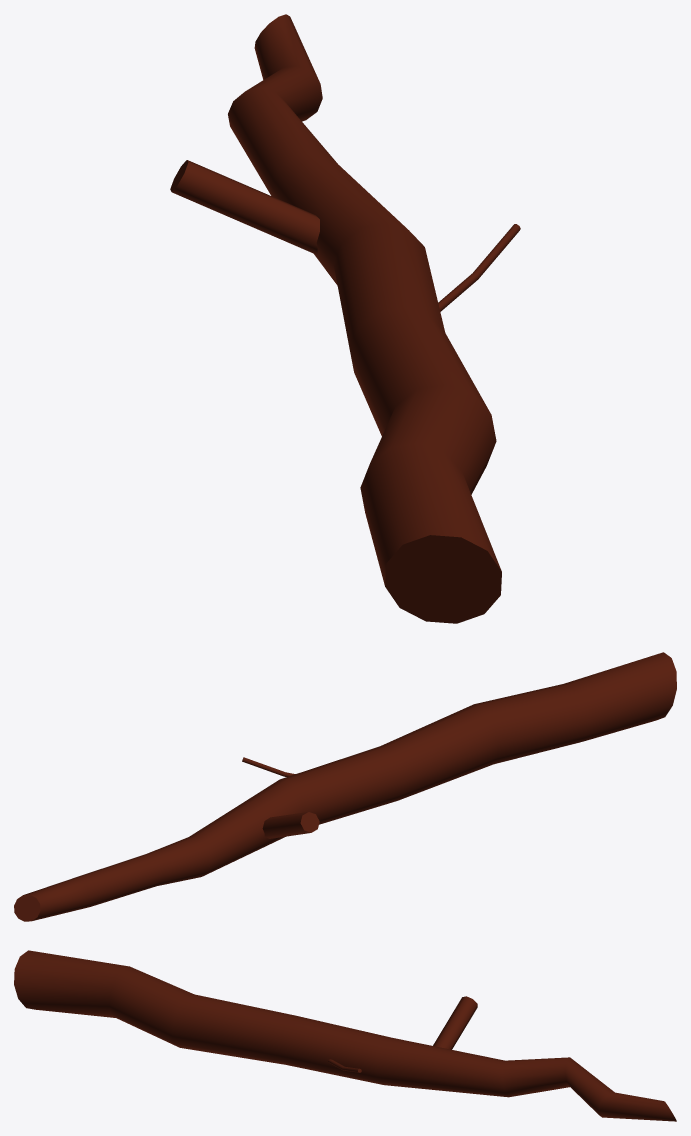
File: branch_04.fbx
3 views of the same model, one above another, from view 1: azimuth 30°, elevation 25°; view 2: azimuth 150°, elevation 25°; view 3: azimuth 270°, elevation 25° (orthographic). The views are drawn at different scales.
Visible parts, largest first — view 1: branch_04; view 2: branch_04; view 3: branch_04.
Part boxes in pixels (left/top/right/bottom): branch_04: left=170, top=14, right=520, bottom=623; branch_04: left=14, top=652, right=676, bottom=921; branch_04: left=14, top=950, right=676, bottom=1121.
Size of the model in its own units: 85.19 by 18.6 by 184.
